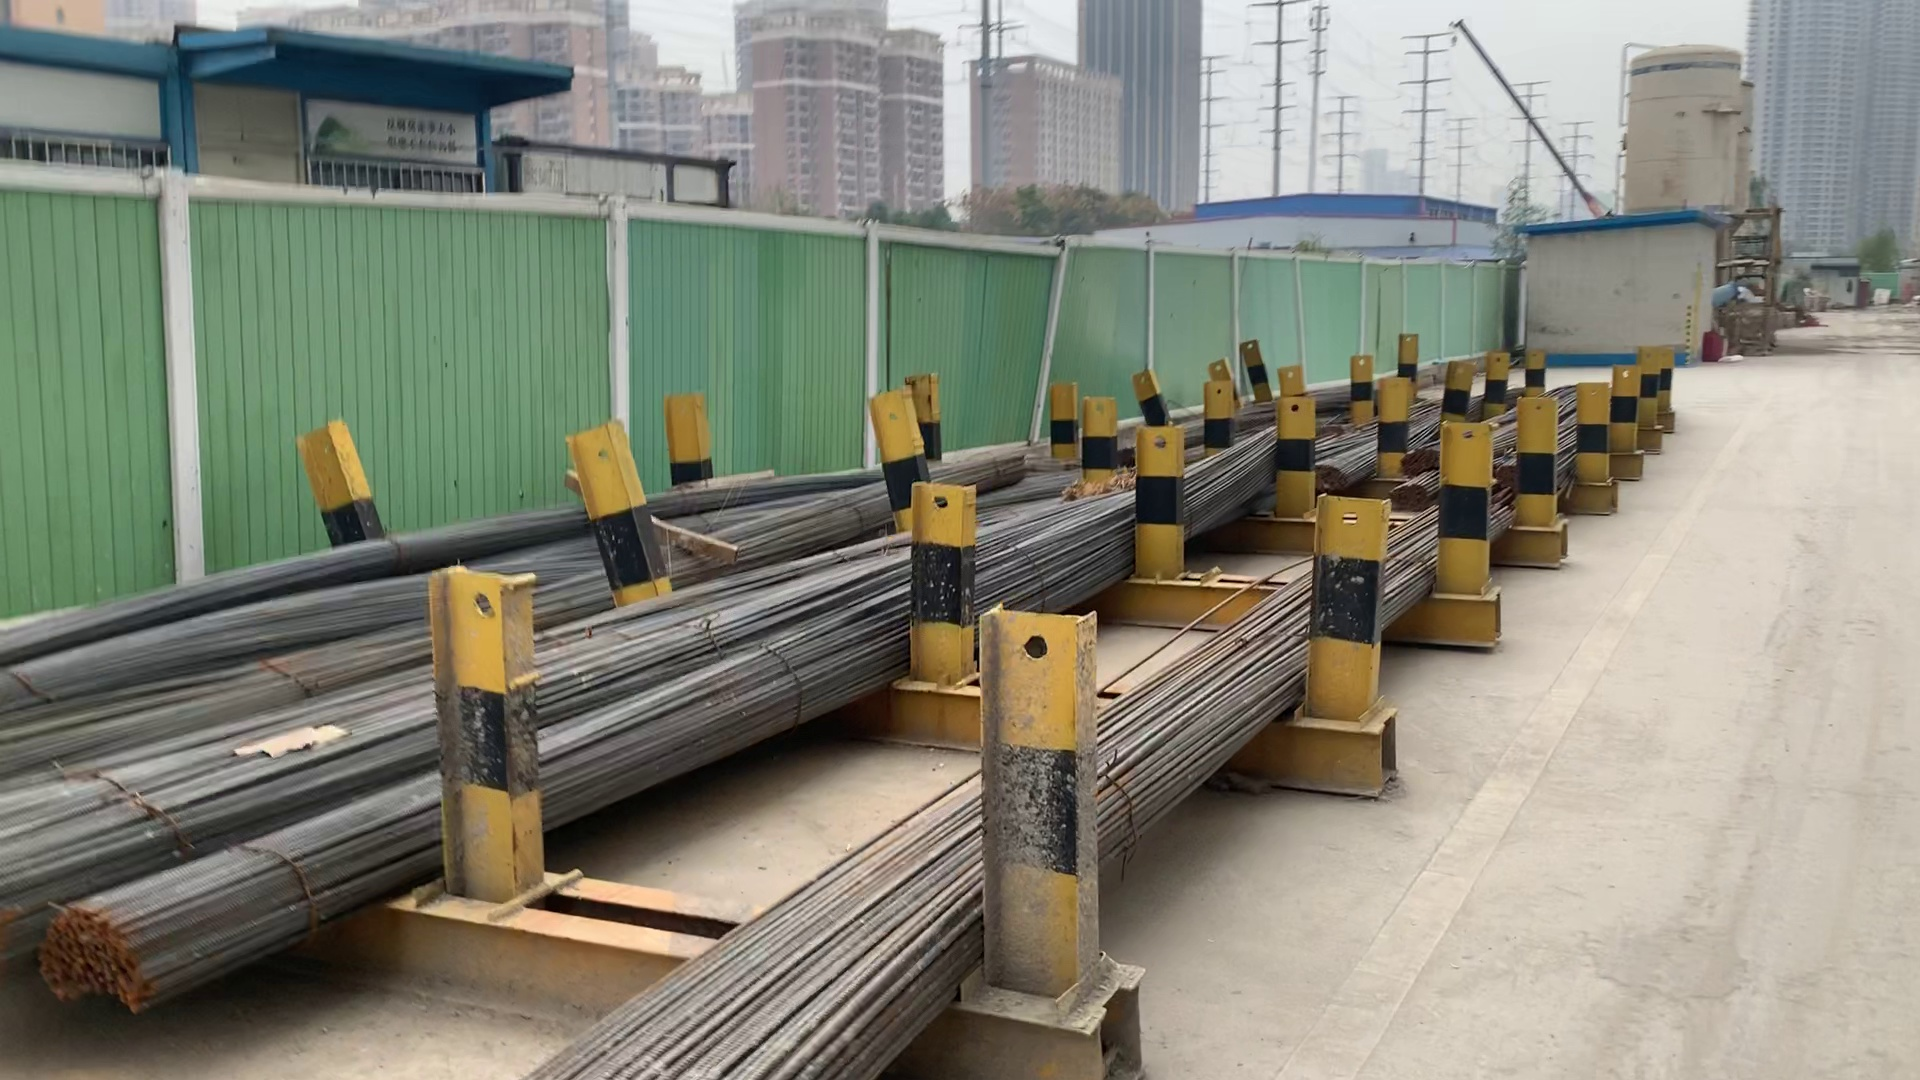rebar: (36, 913, 145, 1011), (1387, 483, 1433, 512), (1399, 442, 1445, 469), (1316, 458, 1350, 485)
